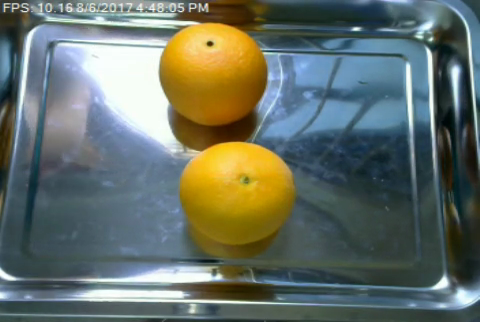Orange: (180, 141, 297, 244), (157, 22, 266, 126)
